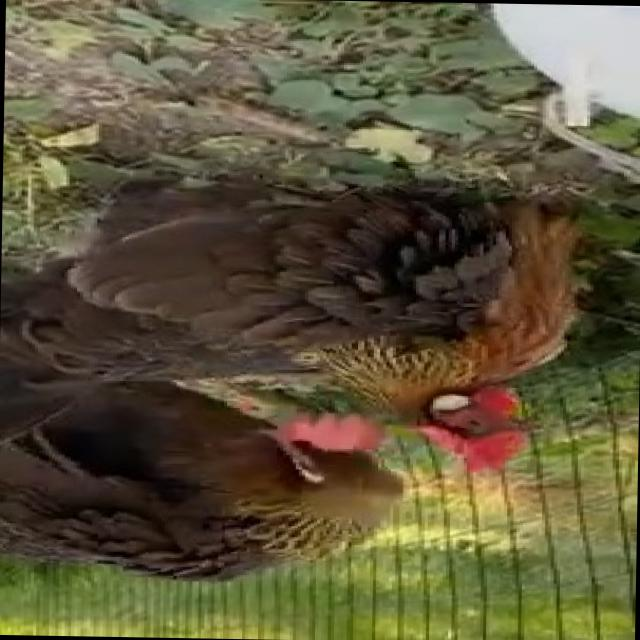self preening: (13, 162, 604, 482), (0, 390, 435, 588)
